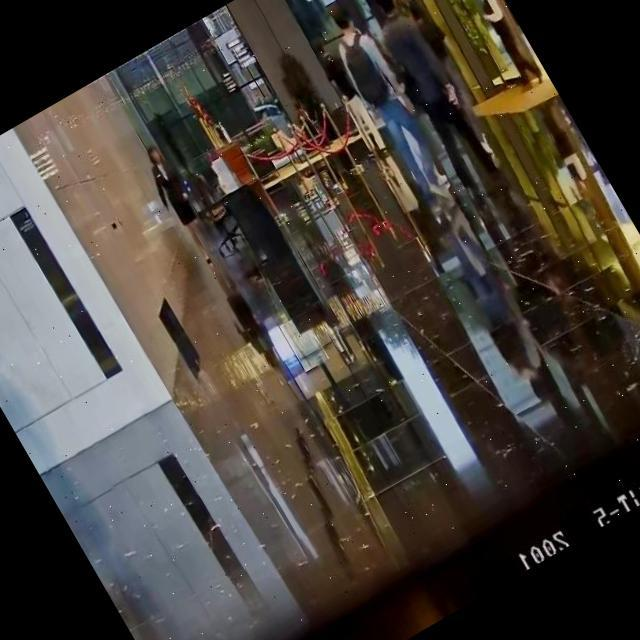person: (312, 0, 463, 211), (352, 0, 507, 198), (397, 0, 516, 169), (135, 140, 226, 270), (304, 34, 392, 162), (458, 0, 543, 91), (290, 100, 321, 140)
